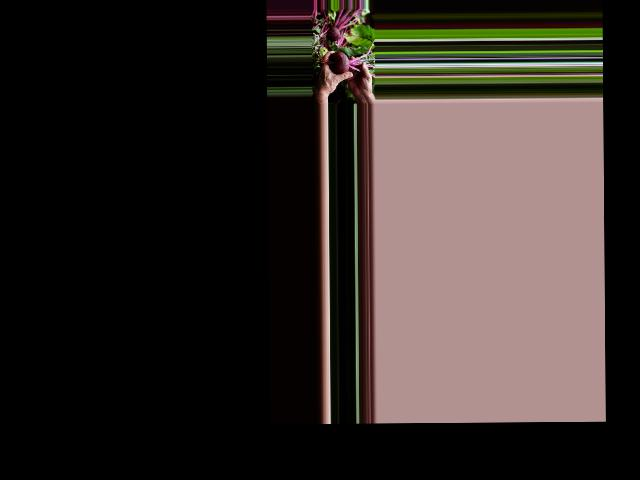beet: (327, 38, 374, 75)
